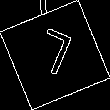L_SW: (31, 26, 79, 84)
